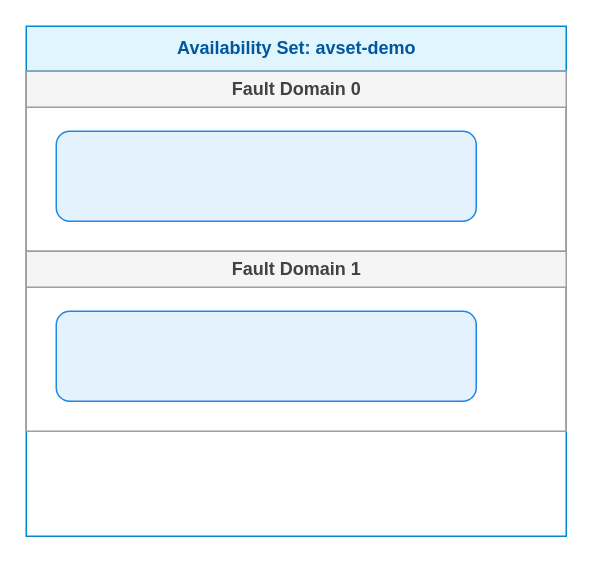
This 593x563 diagram has some shape labels left out. The shapes that lost their labels are listed below. From the top down, each one's centre as x and y in pixels, then its label:
At point (265, 175): "vm1-av Update Domain 0".
At point (265, 355): "vm2-av Update Domain 1".
